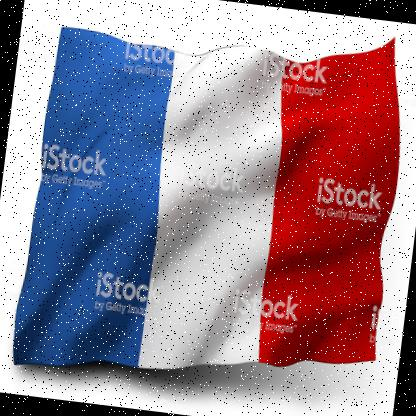fr: (4, 1, 416, 410)
